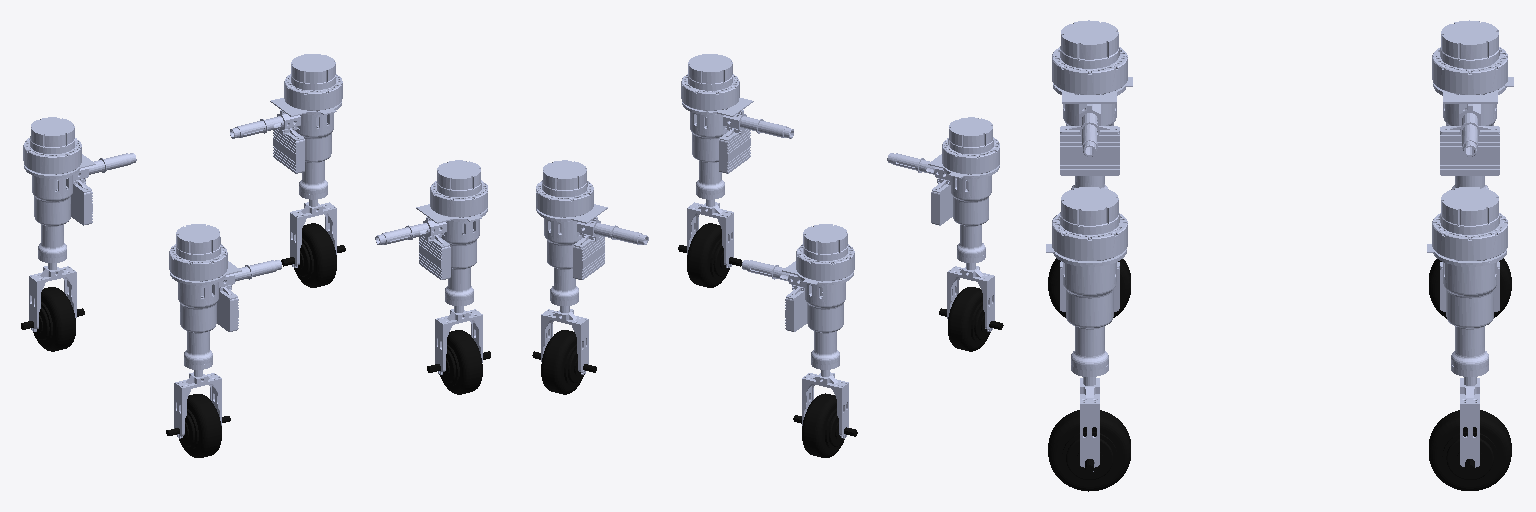
The robot description file, URDF, robot "URDF":
<?xml version="1.0" encoding="utf-8"?>
<!-- This URDF was automatically created by SolidWorks to URDF Exporter! Originally created by Stephen Brawner (brawner@gmail.com) 
     Commit Version: 1.6.0-4-g7f85cfe  Build Version: 1.6.7995.38578
     For more information, please see http://wiki.ros.org/sw_urdf_exporter -->
<robot
  name="URDF">
  
  <link
    name="base_link">
    <inertial>
      <origin
        xyz="0.000116189201658227 0.346772984260249 0.204826441151838"
        rpy="0 0 0" />
      <mass
        value="5.46650505869892" />
      <inertia
        ixx="0.0428978331729934"
        ixy="-1.39473542348787E-05"
        ixz="-1.07070686905421E-06"
        iyy="0.0223525551585646"
        iyz="-0.0001904053157383"
        izz="0.0542335350355856" />
    </inertial>
    <visual>
      <origin
        xyz="0 0 0"
        rpy="0 0 0" />
      <geometry>
        <mesh
          filename="package://URDF/meshes/base_link.STL" />
      </geometry>
      <material
        name="">
        <color
          rgba="0.792156862745098 0.819607843137255 0.933333333333333 1" />
      </material>
    </visual>
    <collision>
      <origin
        xyz="0 0 0"
        rpy="0 0 0" />
      <geometry>
        <mesh
          filename="package://URDF/meshes/base_link.STL" />
      </geometry>
    </collision>
  </link>
  <link
    name="FL_Thigh">
    <inertial>
      <origin
        xyz="0.145847744412445 0.00797100723254199 5.4345807938283E-06"
        rpy="0 0 0" />
      <mass
        value="0.683223819592908" />
      <inertia
        ixx="0.000730000173725102"
        ixy="-3.87376495849758E-06"
        ixz="-2.8960556912562E-07"
        iyy="0.000554395072535249"
        iyz="2.79548358386144E-07"
        izz="0.000724119503607722" />
    </inertial>
    <visual>
      <origin
        xyz="0 0 0"
        rpy="0 0 0" />
      <geometry>
        <mesh
          filename="package://URDF/meshes/FL_Thigh.STL" />
      </geometry>
      <material
        name="">
        <color
          rgba="0.792156862745098 0.819607843137255 0.933333333333333 1" />
      </material>
    </visual>
    <collision>
      <origin
        xyz="0 0 0"
        rpy="0 0 0" />
      <geometry>
        <mesh
          filename="package://URDF/meshes/FL_Thigh.STL" />
      </geometry>
    </collision>
  </link>
  <joint
    name="FL_Joint0"
    type="revolute">
    <origin
      xyz="-0.093 0.55967 0.15667"
      rpy="1.5708 0 3.1416" />
    <parent
      link="base_link" />
    <child
      link="FL_Thigh" />
    <axis
      xyz="1 0 0" />
    <limit
      lower="-3"
      upper="3"
      effort="5"
      velocity="3" />
  </joint>
  <link
    name="FL_UpperLeg">
    <inertial>
      <origin
        xyz="-0.00025165458688553 0.000363196918078984 0.000112603905881192"
        rpy="0 0 0" />
      <mass
        value="0.0324823439911249" />
      <inertia
        ixx="5.70530014589324E-06"
        ixy="-3.98758935726187E-09"
        ixz="-5.47563447124216E-09"
        iyy="4.02965443943131E-06"
        iyz="3.36519239479282E-09"
        izz="5.60308237093442E-06" />
    </inertial>
    <visual>
      <origin
        xyz="0 0 0"
        rpy="0 0 0" />
      <geometry>
        <mesh
          filename="package://URDF/meshes/FL_UpperLeg.STL" />
      </geometry>
      <material
        name="">
        <color
          rgba="0.792156862745098 0.819607843137255 0.933333333333333 1" />
      </material>
    </visual>
    <collision>
      <origin
        xyz="0 0 0"
        rpy="0 0 0" />
      <geometry>
        <mesh
          filename="package://URDF/meshes/FL_UpperLeg.STL" />
      </geometry>
    </collision>
  </link>
  <joint
    name="FL_Joint1"
    type="revolute">
    <origin
      xyz="0.155 0 0"
      rpy="0 0 0" />
    <parent
      link="FL_Thigh" />
    <child
      link="FL_UpperLeg" />
    <axis
      xyz="0 1 0" />
    <limit
      lower="-3"
      upper="3"
      effort="5"
      velocity="3" />
  </joint>
  <link
    name="FL_LowerLeg">
    <inertial>
      <origin
        xyz="4.32114455328758E-10 -0.119218144043721 -3.26901083980147E-09"
        rpy="0 0 0" />
      <mass
        value="0.0585307084242943" />
      <inertia
        ixx="4.18091193589905E-05"
        ixy="-3.56596788730529E-13"
        ixz="-3.22841523863921E-12"
        iyy="8.64483463526248E-06"
        iyz="-4.68659571165712E-12"
        izz="4.45974461081382E-05" />
    </inertial>
    <visual>
      <origin
        xyz="0 0 0"
        rpy="0 0 0" />
      <geometry>
        <mesh
          filename="package://URDF/meshes/FL_LowerLeg.STL" />
      </geometry>
      <material
        name="">
        <color
          rgba="0.792156862745098 0.819607843137255 0.933333333333333 1" />
      </material>
    </visual>
    <collision>
      <origin
        xyz="0 0 0"
        rpy="0 0 0" />
      <geometry>
        <mesh
          filename="package://URDF/meshes/FL_LowerLeg.STL" />
      </geometry>
    </collision>
  </link>
  <joint
    name="FL_Joint2"
    type="prismatic">
    <origin
      xyz="0 -0.05 0"
      rpy="0 0 0" />
    <parent
      link="FL_UpperLeg" />
    <child
      link="FL_LowerLeg" />
    <axis
      xyz="0 1 0" />
    <limit
      lower="-0.03"
      upper="0"
      effort="5"
      velocity="3" />
  </joint>
  <link
    name="FL_Wheel">
    <inertial>
      <origin
        xyz="1.11022302462516E-16 -1.11022302462516E-16 -1.66533453693773E-16"
        rpy="0 0 0" />
      <mass
        value="0.381771502514577" />
      <inertia
        ixx="0.000305761106837617"
        ixy="1.01643953670516E-20"
        ixz="-3.06328636026836E-20"
        iyy="0.000305747486565145"
        iyz="9.22320017141046E-20"
        izz="0.0004498535402749" />
    </inertial>
    <visual>
      <origin
        xyz="0 0 0"
        rpy="0 0 0" />
      <geometry>
        <mesh
          filename="package://URDF/meshes/FL_Wheel.STL" />
      </geometry>
      <material
        name="">
        <color
          rgba="0.101960784313725 0.101960784313725 0.101960784313725 1" />
      </material>
    </visual>
    <collision>
      <origin
        xyz="0 0 0"
        rpy="0 0 0" />
      <geometry>
        <mesh
          filename="package://URDF/meshes/FL_Wheel.STL" />
      </geometry>
    </collision>
  </link>
  <joint
    name="FL_Joint3"
    type="continuous">
    <origin
      xyz="0 -0.207215266909561 0"
      rpy="-1.5707963267949 -1.42722102051623 -1.5707963267949" />
    <parent
      link="FL_LowerLeg" />
    <child
      link="FL_Wheel" />
    <axis
      xyz="0 0 1" />
    <limit
      lower="-30"
      upper="30"
      effort="5"
      velocity="3" />
  </joint>
  <link
    name="FR_Thigh">
    <inertial>
      <origin
        xyz="0.145847744412445 0.00797100723254213 5.4345807938283E-06"
        rpy="0 0 0" />
      <mass
        value="0.683223819592909" />
      <inertia
        ixx="0.000730000173725102"
        ixy="-3.87376495849767E-06"
        ixz="-2.89605569124963E-07"
        iyy="0.00055439507253525"
        iyz="2.79548358386667E-07"
        izz="0.000724119503607722" />
    </inertial>
    <visual>
      <origin
        xyz="0 0 0"
        rpy="0 0 0" />
      <geometry>
        <mesh
          filename="package://URDF/meshes/FR_Thigh.STL" />
      </geometry>
      <material
        name="">
        <color
          rgba="0.792156862745098 0.819607843137255 0.933333333333333 1" />
      </material>
    </visual>
    <collision>
      <origin
        xyz="0 0 0"
        rpy="0 0 0" />
      <geometry>
        <mesh
          filename="package://URDF/meshes/FR_Thigh.STL" />
      </geometry>
    </collision>
  </link>
  <joint
    name="FR_Joint0"
    type="revolute">
    <origin
      xyz="0.0930000000000001 0.559668708920733 0.156670430160651"
      rpy="1.5707963267949 0 0" />
    <parent
      link="base_link" />
    <child
      link="FR_Thigh" />
    <axis
      xyz="1 0 0" />
    <limit
      lower="-3"
      upper="3"
      effort="5"
      velocity="3" />
  </joint>
  <link
    name="FR_UpperLeg">
    <inertial>
      <origin
        xyz="-0.000251654387411954 0.000363197299707352 0.000112603855578763"
        rpy="0 0 0" />
      <mass
        value="0.0324823436993694" />
      <inertia
        ixx="5.7053000659336E-06"
        ixy="-3.98750318829875E-09"
        ixz="-5.4756251266254E-09"
        iyy="4.02965443392168E-06"
        iyz="3.36517047649505E-09"
        izz="5.60308230845824E-06" />
    </inertial>
    <visual>
      <origin
        xyz="0 0 0"
        rpy="0 0 0" />
      <geometry>
        <mesh
          filename="package://URDF/meshes/FR_UpperLeg.STL" />
      </geometry>
      <material
        name="">
        <color
          rgba="0.792156862745098 0.819607843137255 0.933333333333333 1" />
      </material>
    </visual>
    <collision>
      <origin
        xyz="0 0 0"
        rpy="0 0 0" />
      <geometry>
        <mesh
          filename="package://URDF/meshes/FR_UpperLeg.STL" />
      </geometry>
    </collision>
  </link>
  <joint
    name="FR_Joint1"
    type="revolute">
    <origin
      xyz="0.155 0 0"
      rpy="0 0 0" />
    <parent
      link="FR_Thigh" />
    <child
      link="FR_UpperLeg" />
    <axis
      xyz="0 1 0" />
    <limit
      lower="-3"
      upper="3"
      effort="5"
      velocity="3" />
  </joint>
  <link
    name="FR_LowerLeg">
    <inertial>
      <origin
        xyz="4.32112234882709E-10 -0.119218144043722 -3.26901261615831E-09"
        rpy="0 0 0" />
      <mass
        value="0.0585307084242942" />
      <inertia
        ixx="4.18091193589904E-05"
        ixy="-3.56596769672288E-13"
        ixz="-3.22841523270908E-12"
        iyy="8.64483463526249E-06"
        iyz="-4.68659571309039E-12"
        izz="4.45974461081381E-05" />
    </inertial>
    <visual>
      <origin
        xyz="0 0 0"
        rpy="0 0 0" />
      <geometry>
        <mesh
          filename="package://URDF/meshes/FR_LowerLeg.STL" />
      </geometry>
      <material
        name="">
        <color
          rgba="0.792156862745098 0.819607843137255 0.933333333333333 1" />
      </material>
    </visual>
    <collision>
      <origin
        xyz="0 0 0"
        rpy="0 0 0" />
      <geometry>
        <mesh
          filename="package://URDF/meshes/FR_LowerLeg.STL" />
      </geometry>
    </collision>
  </link>
  <joint
    name="FR_Joint2"
    type="prismatic">
    <origin
      xyz="0 -0.05 0"
      rpy="0 0 0" />
    <parent
      link="FR_UpperLeg" />
    <child
      link="FR_LowerLeg" />
    <axis
      xyz="0 1 0" />
    <limit
      lower="-0.03"
      upper="0"
      effort="5"
      velocity="3" />
  </joint>
  <link
    name="FR_Wheel">
    <inertial>
      <origin
        xyz="-1.66533453693773E-16 -1.66533453693773E-16 -2.52575738102223E-15"
        rpy="0 0 0" />
      <mass
        value="0.381771502514577" />
      <inertia
        ixx="0.000305761106837617"
        ixy="2.71050543121376E-20"
        ixz="8.21745464629926E-21"
        iyy="0.000305747486565144"
        iyz="-1.75449113404696E-20"
        izz="0.000449853540274899" />
    </inertial>
    <visual>
      <origin
        xyz="0 0 0"
        rpy="0 0 0" />
      <geometry>
        <mesh
          filename="package://URDF/meshes/FR_Wheel.STL" />
      </geometry>
      <material
        name="">
        <color
          rgba="0.101960784313725 0.101960784313725 0.101960784313725 1" />
      </material>
    </visual>
    <collision>
      <origin
        xyz="0 0 0"
        rpy="0 0 0" />
      <geometry>
        <mesh
          filename="package://URDF/meshes/FR_Wheel.STL" />
      </geometry>
    </collision>
  </link>
  <joint
    name="FR_Joint3"
    type="continuous">
    <origin
      xyz="0 -0.207215266909562 0"
      rpy="1.5707963267949 -0.658786782595161 1.5707963267949" />
    <parent
      link="FR_LowerLeg" />
    <child
      link="FR_Wheel" />
    <axis
      xyz="0 0 1" />
    <limit
      lower="-30"
      upper="3"
      effort="5"
      velocity="30" />
  </joint>
  <link
    name="RL_Thigh">
    <inertial>
      <origin
        xyz="0.145847744412445 0.00797100723254215 5.43458079375891E-06"
        rpy="0 0 0" />
      <mass
        value="0.683223819592909" />
      <inertia
        ixx="0.000730000173725104"
        ixy="-3.87376495849766E-06"
        ixz="-2.8960556912574E-07"
        iyy="0.00055439507253525"
        iyz="2.79548358386711E-07"
        izz="0.000724119503607724" />
    </inertial>
    <visual>
      <origin
        xyz="0 0 0"
        rpy="0 0 0" />
      <geometry>
        <mesh
          filename="package://URDF/meshes/RL_Thigh.STL" />
      </geometry>
      <material
        name="">
        <color
          rgba="0.792156862745098 0.819607843137255 0.933333333333333 1" />
      </material>
    </visual>
    <collision>
      <origin
        xyz="0 0 0"
        rpy="0 0 0" />
      <geometry>
        <mesh
          filename="package://URDF/meshes/RL_Thigh.STL" />
      </geometry>
    </collision>
  </link>
  <joint
    name="RL_Joint0"
    type="revolute">
    <origin
      xyz="-0.093 0.079669 0.15667"
      rpy="1.5708 0 -3.1416" />
    <parent
      link="base_link" />
    <child
      link="RL_Thigh" />
    <axis
      xyz="1 0 0" />
    <limit
      lower="-3"
      upper="3"
      effort="5"
      velocity="3" />
  </joint>
  <link
    name="RL_UpperLeg">
    <inertial>
      <origin
        xyz="-0.000251654573191568 0.000363196166052487 0.000112604040187869"
        rpy="0 0 0" />
      <mass
        value="0.0324823445660512" />
      <inertia
        ixx="5.70530028344352E-06"
        ixy="-3.98758541071787E-09"
        ixz="-5.47562510849674E-09"
        iyy="4.02965444743751E-06"
        iyz="3.36525061407141E-09"
        izz="5.60308251121382E-06" />
    </inertial>
    <visual>
      <origin
        xyz="0 0 0"
        rpy="0 0 0" />
      <geometry>
        <mesh
          filename="package://URDF/meshes/RL_UpperLeg.STL" />
      </geometry>
      <material
        name="">
        <color
          rgba="0.792156862745098 0.819607843137255 0.933333333333333 1" />
      </material>
    </visual>
    <collision>
      <origin
        xyz="0 0 0"
        rpy="0 0 0" />
      <geometry>
        <mesh
          filename="package://URDF/meshes/RL_UpperLeg.STL" />
      </geometry>
    </collision>
  </link>
  <joint
    name="RL_Joint1"
    type="revolute">
    <origin
      xyz="0.155 0 0"
      rpy="3.14159265358979 0 -3.14159265358979" />
    <parent
      link="RL_Thigh" />
    <child
      link="RL_UpperLeg" />
    <axis
      xyz="0 1 0" />
    <limit
      lower="-3"
      upper="3"
      effort="5"
      velocity="3" />
  </joint>
  <link
    name="RL_LowerLeg">
    <inertial>
      <origin
        xyz="4.32114788395666E-10 -0.119218144043721 -3.26901167246874E-09"
        rpy="0 0 0" />
      <mass
        value="0.0585307084242942" />
      <inertia
        ixx="4.18091193589904E-05"
        ixy="-3.56596770095805E-13"
        ixz="-3.22841523717002E-12"
        iyy="8.64483463526247E-06"
        iyz="-4.686595718524E-12"
        izz="4.45974461081382E-05" />
    </inertial>
    <visual>
      <origin
        xyz="0 0 0"
        rpy="0 0 0" />
      <geometry>
        <mesh
          filename="package://URDF/meshes/RL_LowerLeg.STL" />
      </geometry>
      <material
        name="">
        <color
          rgba="0.792156862745098 0.819607843137255 0.933333333333333 1" />
      </material>
    </visual>
    <collision>
      <origin
        xyz="0 0 0"
        rpy="0 0 0" />
      <geometry>
        <mesh
          filename="package://URDF/meshes/RL_LowerLeg.STL" />
      </geometry>
    </collision>
  </link>
  <joint
    name="RL_Joint2"
    type="prismatic">
    <origin
      xyz="0 -0.05 0"
      rpy="0 0 0" />
    <parent
      link="RL_UpperLeg" />
    <child
      link="RL_LowerLeg" />
    <axis
      xyz="0 1 0" />
    <limit
      lower="-0.03"
      upper="0"
      effort="5"
      velocity="3" />
  </joint>
  <link
    name="RL_Wheel">
    <inertial>
      <origin
        xyz="2.08166817117217E-17 -2.77555756156289E-17 -1.94289029309402E-16"
        rpy="0 0 0" />
      <mass
        value="0.381771502514577" />
      <inertia
        ixx="0.000305761106837617"
        ixy="1.35525271560688E-20"
        ixz="6.27063407117549E-20"
        iyy="0.000305747486565145"
        iyz="-2.01145465899041E-20"
        izz="0.0004498535402749" />
    </inertial>
    <visual>
      <origin
        xyz="0 0 0"
        rpy="0 0 0" />
      <geometry>
        <mesh
          filename="package://URDF/meshes/RL_Wheel.STL" />
      </geometry>
      <material
        name="">
        <color
          rgba="0.101960784313725 0.101960784313725 0.101960784313725 1" />
      </material>
    </visual>
    <collision>
      <origin
        xyz="0 0 0"
        rpy="0 0 0" />
      <geometry>
        <mesh
          filename="package://URDF/meshes/RL_Wheel.STL" />
      </geometry>
    </collision>
  </link>
  <joint
    name="RL_Joint3"
    type="continuous">
    <origin
      xyz="0 -0.207215266909561 0"
      rpy="-1.5707963267949 0.425423727434048 1.5707963267949" />
    <parent
      link="RL_LowerLeg" />
    <child
      link="RL_Wheel" />
    <axis
      xyz="0 0 1" />
    <limit
      lower="-3"
      upper="3"
      effort="5"
      velocity="3" />
  </joint>
  <link
    name="RR_Thigh">
    <inertial>
      <origin
        xyz="0.145847744412445 0.00797100723253558 5.43458078740289E-06"
        rpy="0 0 0" />
      <mass
        value="0.683223819592908" />
      <inertia
        ixx="0.000730000173725101"
        ixy="-3.87376495849781E-06"
        ixz="-2.89605569125492E-07"
        iyy="0.00055439507253525"
        iyz="2.79548358386865E-07"
        izz="0.000724119503607721" />
    </inertial>
    <visual>
      <origin
        xyz="0 0 0"
        rpy="0 0 0" />
      <geometry>
        <mesh
          filename="package://URDF/meshes/RR_Thigh.STL" />
      </geometry>
      <material
        name="">
        <color
          rgba="0.792156862745098 0.819607843137255 0.933333333333333 1" />
      </material>
    </visual>
    <collision>
      <origin
        xyz="0 0 0"
        rpy="0 0 0" />
      <geometry>
        <mesh
          filename="package://URDF/meshes/RR_Thigh.STL" />
      </geometry>
    </collision>
  </link>
  <joint
    name="RR_Joint0"
    type="revolute">
    <origin
      xyz="0.0930000000000005 0.0796687089207339 0.156670430160648"
      rpy="1.5707963267949 0 0" />
    <parent
      link="base_link" />
    <child
      link="RR_Thigh" />
    <axis
      xyz="1 0 0" />
    <limit
      lower="-3"
      upper="3"
      effort="5"
      velocity="3" />
  </joint>
  <link
    name="RR_UpperLeg">
    <inertial>
      <origin
        xyz="-0.000251654468812063 0.000363195414020301 0.000112603906542219"
        rpy="0 0 0" />
      <mass
        value="0.0324823451409771" />
      <inertia
        ixx="5.70530042935895E-06"
        ixy="-3.98754272982908E-09"
        ixz="-5.47563041667774E-09"
        iyy="4.02965445544371E-06"
        iyz="3.36519437514697E-09"
        izz="5.60308264312766E-06" />
    </inertial>
    <visual>
      <origin
        xyz="0 0 0"
        rpy="0 0 0" />
      <geometry>
        <mesh
          filename="package://URDF/meshes/RR_UpperLeg.STL" />
      </geometry>
      <material
        name="">
        <color
          rgba="0.792156862745098 0.819607843137255 0.933333333333333 1" />
      </material>
    </visual>
    <collision>
      <origin
        xyz="0 0 0"
        rpy="0 0 0" />
      <geometry>
        <mesh
          filename="package://URDF/meshes/RR_UpperLeg.STL" />
      </geometry>
    </collision>
  </link>
  <joint
    name="RR_Joint1"
    type="revolute">
    <origin
      xyz="0.155 0 0"
      rpy="0 0 0" />
    <parent
      link="RR_Thigh" />
    <child
      link="RR_UpperLeg" />
    <axis
      xyz="0 1 0" />
    <limit
      lower="-3"
      upper="3"
      effort="5"
      velocity="3" />
  </joint>
  <link
    name="RR_LowerLeg">
    <inertial>
      <origin
        xyz="4.32118174575891E-10 -0.119218144043769 -3.26900080616088E-09"
        rpy="0 0 0" />
      <mass
        value="0.0585307084242942" />
      <inertia
        ixx="4.18091193589904E-05"
        ixy="-3.56596766178277E-13"
        ixz="-3.22841523690277E-12"
        iyy="8.64483463526247E-06"
        iyz="-4.68659571497884E-12"
        izz="4.45974461081381E-05" />
    </inertial>
    <visual>
      <origin
        xyz="0 0 0"
        rpy="0 0 0" />
      <geometry>
        <mesh
          filename="package://URDF/meshes/RR_LowerLeg.STL" />
      </geometry>
      <material
        name="">
        <color
          rgba="0.792156862745098 0.819607843137255 0.933333333333333 1" />
      </material>
    </visual>
    <collision>
      <origin
        xyz="0 0 0"
        rpy="0 0 0" />
      <geometry>
        <mesh
          filename="package://URDF/meshes/RR_LowerLeg.STL" />
      </geometry>
    </collision>
  </link>
  <joint
    name="RR_Joint2"
    type="prismatic">
    <origin
      xyz="0 -0.05 0"
      rpy="0 0 0" />
    <parent
      link="RR_UpperLeg" />
    <child
      link="RR_LowerLeg" />
    <axis
      xyz="0 1 0" />
    <limit
      lower="-0.03"
      upper="0"
      effort="5"
      velocity="3" />
  </joint>
  <link
    name="RR_Wheel">
    <inertial>
      <origin
        xyz="-9.83935155574045E-15 5.27355936696949E-15 -1.27675647831893E-15"
        rpy="0 0 0" />
      <mass
        value="0.381771502514577" />
      <inertia
        ixx="0.000305761106837616"
        ixy="0"
        ixz="1.26638625991463E-20"
        iyy="0.000305747486565144"
        iyz="3.74231604065638E-20"
        izz="0.000449853540274899" />
    </inertial>
    <visual>
      <origin
        xyz="0 0 0"
        rpy="0 0 0" />
      <geometry>
        <mesh
          filename="package://URDF/meshes/RR_Wheel.STL" />
      </geometry>
      <material
        name="">
        <color
          rgba="0.101960784313725 0.101960784313725 0.101960784313725 1" />
      </material>
    </visual>
    <collision>
      <origin
        xyz="0 0 0"
        rpy="0 0 0" />
      <geometry>
        <mesh
          filename="package://URDF/meshes/RR_Wheel.STL" />
      </geometry>
    </collision>
  </link>
  <joint
    name="RR_Joint3"
    type="continuous">
    <origin
      xyz="0 -0.207215266909608 0"
      rpy="-1.57079632679474 -1.28356431729463 1.57079632679476" />
    <parent
      link="RR_LowerLeg" />
    <child
      link="RR_Wheel" />
    <axis
      xyz="0 0 1" />
    <limit
      lower="-3"
      upper="3"
      effort="5"
      velocity="3" />
  </joint>

  <ros2_control name="KilinSystem" type="system">
  <hardware>
    <plugin>gazebo_ros2_control/GazeboSystem</plugin>
  </hardware>

  <!-- Front Left -->
  <joint name="FL_Joint0">
    <command_interface name="position"/>
    <state_interface name="position"/>
    <state_interface name="velocity"/>
  </joint>

  <joint name="FL_Joint1">
    <command_interface name="position"/>
    <state_interface name="position"/>
    <state_interface name="velocity"/>
  </joint>

  <joint name="FL_Joint2">
    <command_interface name="position"/>
    <state_interface name="position"/>
    <state_interface name="velocity"/>
  </joint>

  <!-- repeat for FR / RL / RR -->
</ros2_control>

<!-- Gazebo plugin for ROS2 Control -->
<gazebo>
  <plugin name="gazebo_ros2_control"
          filename="libgazebo_ros2_control.so"/>
</gazebo>

</robot>

--- Render facts (derived) ---
3 views of the same robot in one strip: view 1: azimuth 30°, elevation 25°; view 2: azimuth 150°, elevation 25°; view 3: azimuth 270°, elevation 25° (orthographic).
Robot: URDF — 17 links, 16 joints (8 revolute, 4 continuous, 4 prismatic); root link base_link; default pose: every joint at zero.
Links seen in each view (by area): view 1: FR_Thigh, RR_Thigh, RL_Thigh, FL_Thigh, RR_Wheel, FR_Wheel, FL_Wheel, RL_Wheel, RL_LowerLeg, FL_LowerLeg, RR_LowerLeg, FR_LowerLeg; view 2: RR_Thigh, FR_Thigh, FL_Thigh, RL_Thigh, RL_Wheel, FR_Wheel, FL_Wheel, RR_Wheel, FR_LowerLeg, RL_LowerLeg, FL_LowerLeg, RR_LowerLeg; view 3: RR_Thigh, FR_Thigh, FL_Thigh, RL_Thigh, FR_Wheel, RR_Wheel, RR_LowerLeg, FR_LowerLeg, FL_Wheel, RL_Wheel.
Boxes of the visible links, left/top/right/bottom form: FR_Thigh: left=230, top=54, right=342, bottom=199; RR_Thigh: left=375, top=160, right=487, bottom=305; RL_Thigh: left=169, top=224, right=281, bottom=369; FL_Thigh: left=23, top=117, right=136, bottom=262; RR_Wheel: left=427, top=330, right=490, bottom=394; FR_Wheel: left=281, top=223, right=345, bottom=287; FL_Wheel: left=21, top=287, right=84, bottom=351; RL_Wheel: left=166, top=394, right=230, bottom=457; RL_LowerLeg: left=174, top=370, right=221, bottom=438; FL_LowerLeg: left=29, top=263, right=76, bottom=331; RR_LowerLeg: left=435, top=306, right=482, bottom=374; FR_LowerLeg: left=290, top=199, right=336, bottom=267; RR_Thigh: left=681, top=54, right=793, bottom=199; FR_Thigh: left=536, top=160, right=648, bottom=305; FL_Thigh: left=742, top=224, right=854, bottom=369; RL_Thigh: left=887, top=117, right=999, bottom=262; RL_Wheel: left=939, top=287, right=1003, bottom=351; FR_Wheel: left=532, top=330, right=596, bottom=394; FL_Wheel: left=793, top=393, right=857, bottom=457; RR_Wheel: left=678, top=223, right=741, bottom=287; FR_LowerLeg: left=541, top=306, right=588, bottom=374; RL_LowerLeg: left=947, top=263, right=994, bottom=331; FL_LowerLeg: left=802, top=370, right=848, bottom=438; RR_LowerLeg: left=687, top=199, right=733, bottom=267; RR_Thigh: left=1046, top=187, right=1127, bottom=376; FR_Thigh: left=1427, top=187, right=1507, bottom=376; FL_Thigh: left=1432, top=20, right=1513, bottom=189; RL_Thigh: left=1052, top=20, right=1132, bottom=189; FR_Wheel: left=1429, top=410, right=1511, bottom=490; RR_Wheel: left=1048, top=410, right=1130, bottom=491; RR_LowerLeg: left=1080, top=377, right=1099, bottom=471; FR_LowerLeg: left=1460, top=377, right=1479, bottom=467; FL_Wheel: left=1429, top=258, right=1511, bottom=318; RL_Wheel: left=1048, top=258, right=1130, bottom=317.
Size in the robot's own frame: 0.612 by 0.59 by 0.4024 metres.
16 mesh visuals loaded from 17 distinct referenced files (16 binary STL); not drawn: 1 (reference not matched to a file when rendering).
